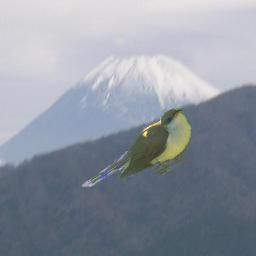Cuckoo: (80, 108, 191, 187)
